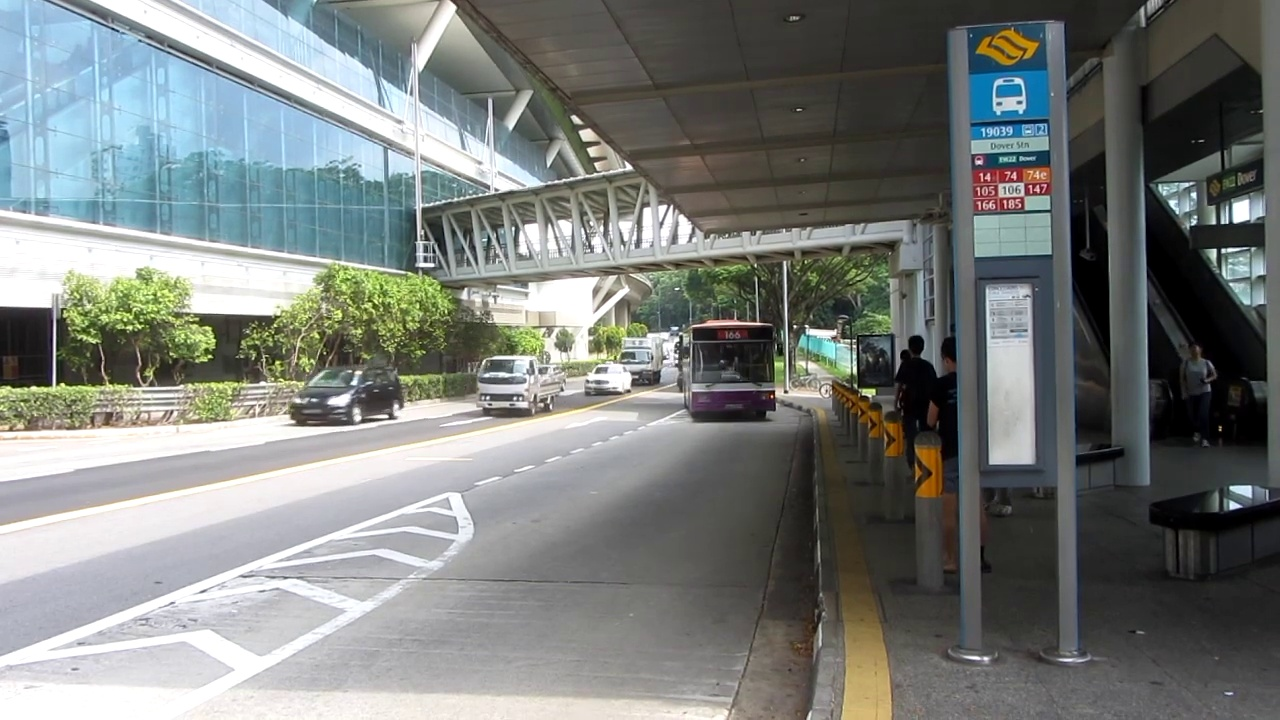bus panel: (717, 329, 749, 339)
